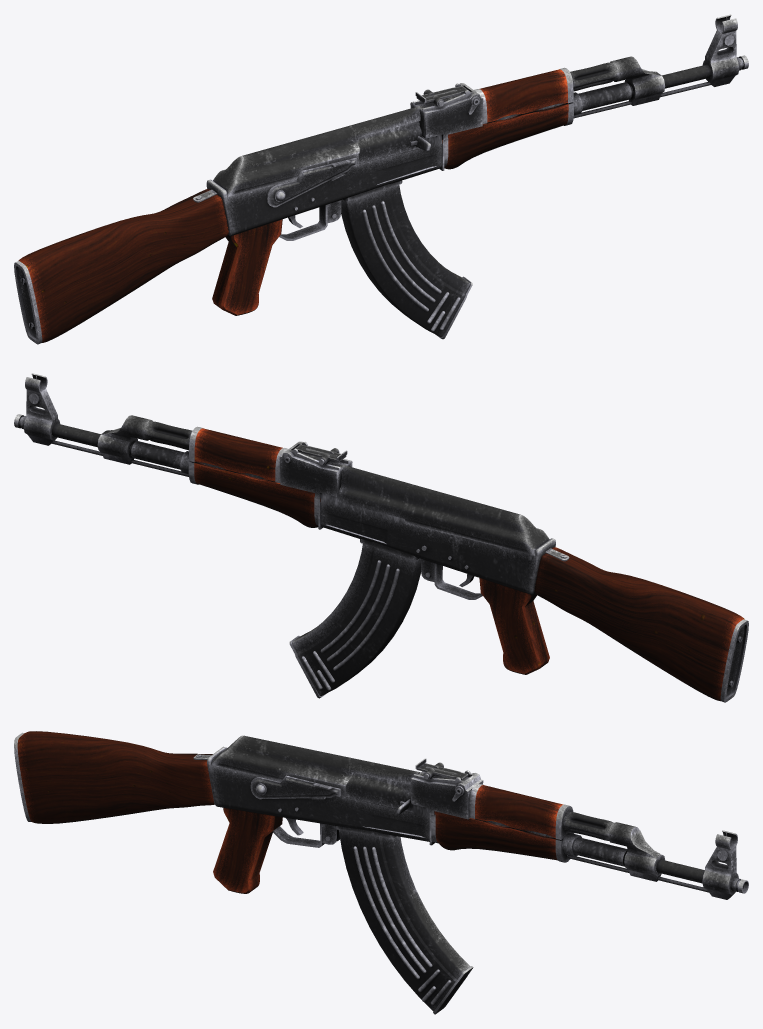
3 renders of one model, top to bottom at view 1: azimuth 30°, elevation 25°; view 2: azimuth 150°, elevation 25°; view 3: azimuth 330°, elevation 25°, orthographic.
Visible parts, largest first — view 1: Ammo; view 2: Ammo; view 3: Ammo.
Boxes of the visible parts, box(x1,y1,x2,y2) form: Ammo: box(14, 14, 748, 344); Ammo: box(14, 373, 748, 702); Ammo: box(14, 731, 748, 1014).
Size of the model in its own units: 316 by 103 by 18.2.
1 material, 1 textured.
